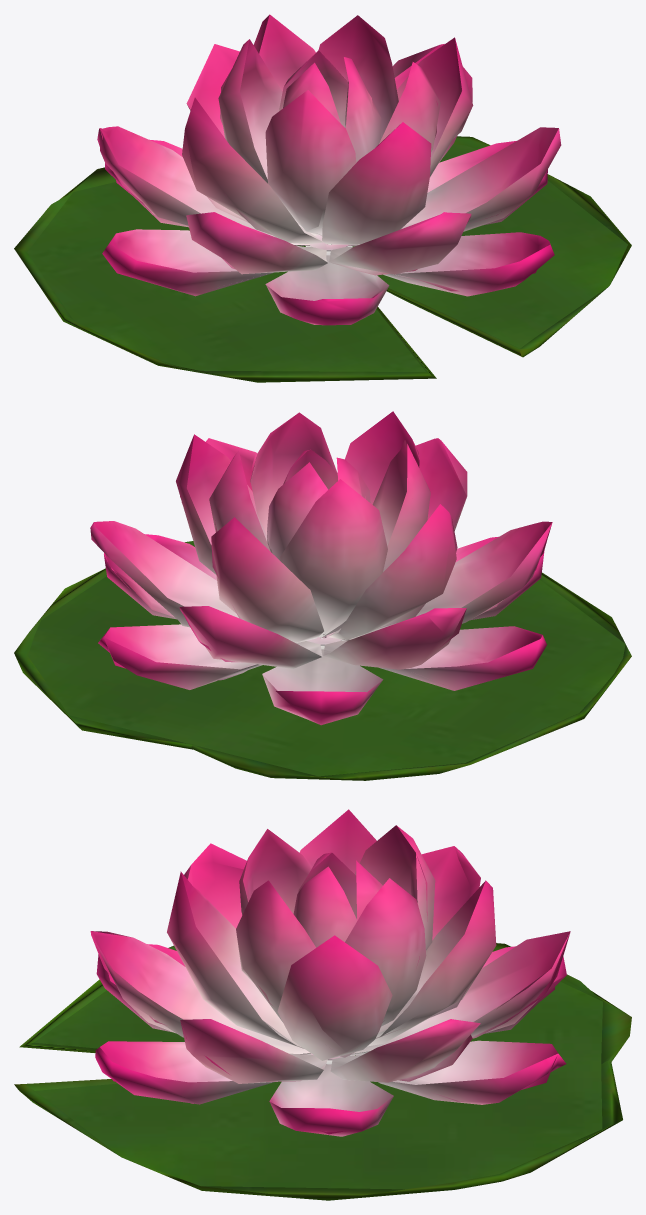
The model's file is Lotus.glb.
The picture shows the model from 3 angles, top to bottom: view 1: azimuth 30°, elevation 25°; view 2: azimuth 150°, elevation 25°; view 3: azimuth 270°, elevation 25°; orthographic projection. The views are drawn at different scales.
Visible parts, largest first — view 1: ec09bc9d-72a1-4cc5-8d27-a7be95bc1595, d2dd7cf2-dd9f-4fd4-b1e1-2cfbddc392b6; view 2: ec09bc9d-72a1-4cc5-8d27-a7be95bc1595, d2dd7cf2-dd9f-4fd4-b1e1-2cfbddc392b6; view 3: ec09bc9d-72a1-4cc5-8d27-a7be95bc1595, d2dd7cf2-dd9f-4fd4-b1e1-2cfbddc392b6.
Boxes of the visible parts, x1=… form: ec09bc9d-72a1-4cc5-8d27-a7be95bc1595: x1=97, y1=14, x2=561, y2=325; d2dd7cf2-dd9f-4fd4-b1e1-2cfbddc392b6: x1=14, y1=136, x2=631, y2=382; ec09bc9d-72a1-4cc5-8d27-a7be95bc1595: x1=90, y1=411, x2=552, y2=725; d2dd7cf2-dd9f-4fd4-b1e1-2cfbddc392b6: x1=14, y1=541, x2=631, y2=780; ec09bc9d-72a1-4cc5-8d27-a7be95bc1595: x1=90, y1=809, x2=570, y2=1136; d2dd7cf2-dd9f-4fd4-b1e1-2cfbddc392b6: x1=14, y1=943, x2=631, y2=1200.
Size of the model in its own units: 1.97 by 0.7536 by 1.92.
Materials: 2 (2 with a texture image).
